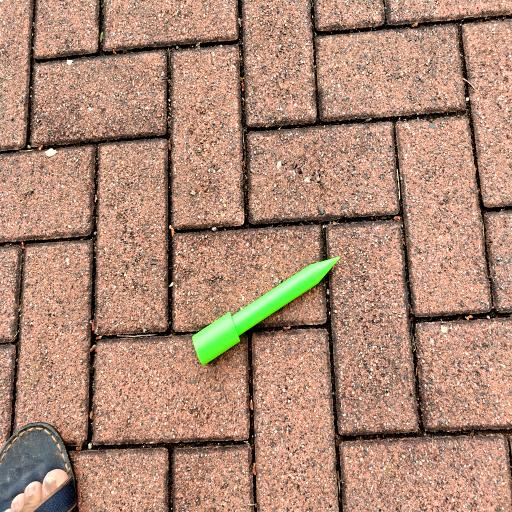Probe-Detection: (192, 257, 340, 365)
